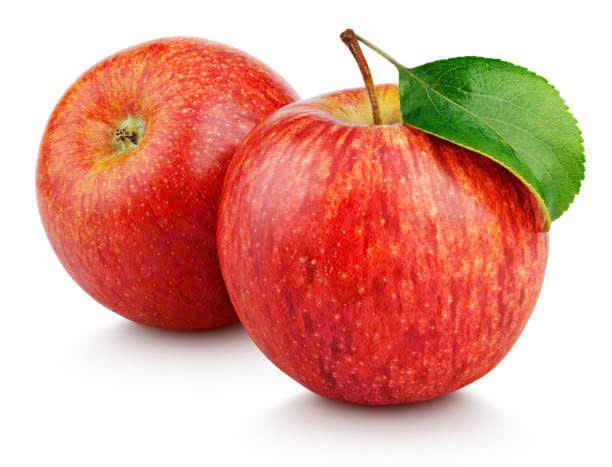apple: (216, 76, 556, 403), (26, 30, 219, 351)
